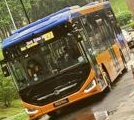bus: (41, 31, 53, 40)
